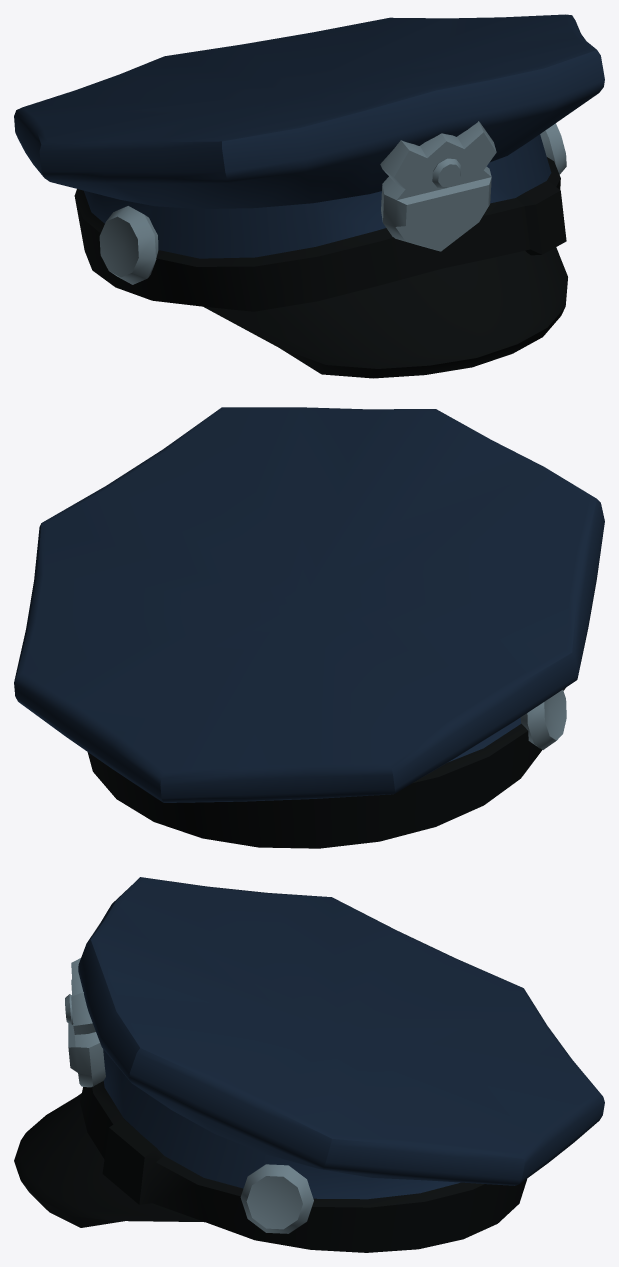
File: police_hat.obj
3 views of the same model, one above another, from view 1: azimuth 30°, elevation 25°; view 2: azimuth 150°, elevation 25°; view 3: azimuth 270°, elevation 25° (orthographic). The views are drawn at different scales.
Parts seen in each view (by area): view 1: police_hat_Cube.354; view 2: police_hat_Cube.354; view 3: police_hat_Cube.354.
Boxes of the visible parts, x1,y1,x2,y2 form: police_hat_Cube.354: [14, 14, 604, 378]; police_hat_Cube.354: [14, 407, 604, 848]; police_hat_Cube.354: [14, 877, 604, 1252].
Bounding box in the file's own units: 1.44 × 0.666 × 1.48.
